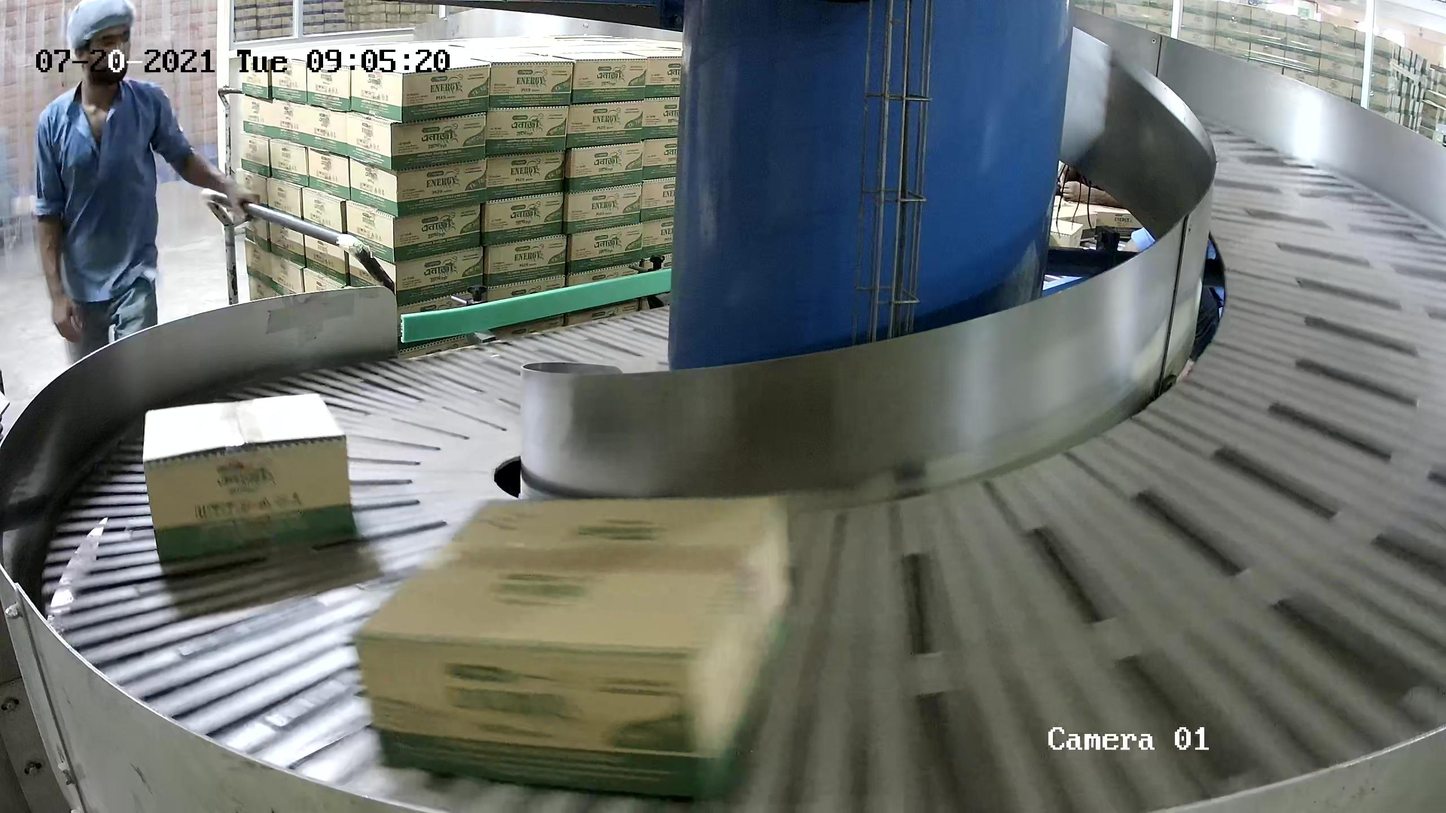Box: (350, 492, 792, 798), (141, 392, 356, 574)
